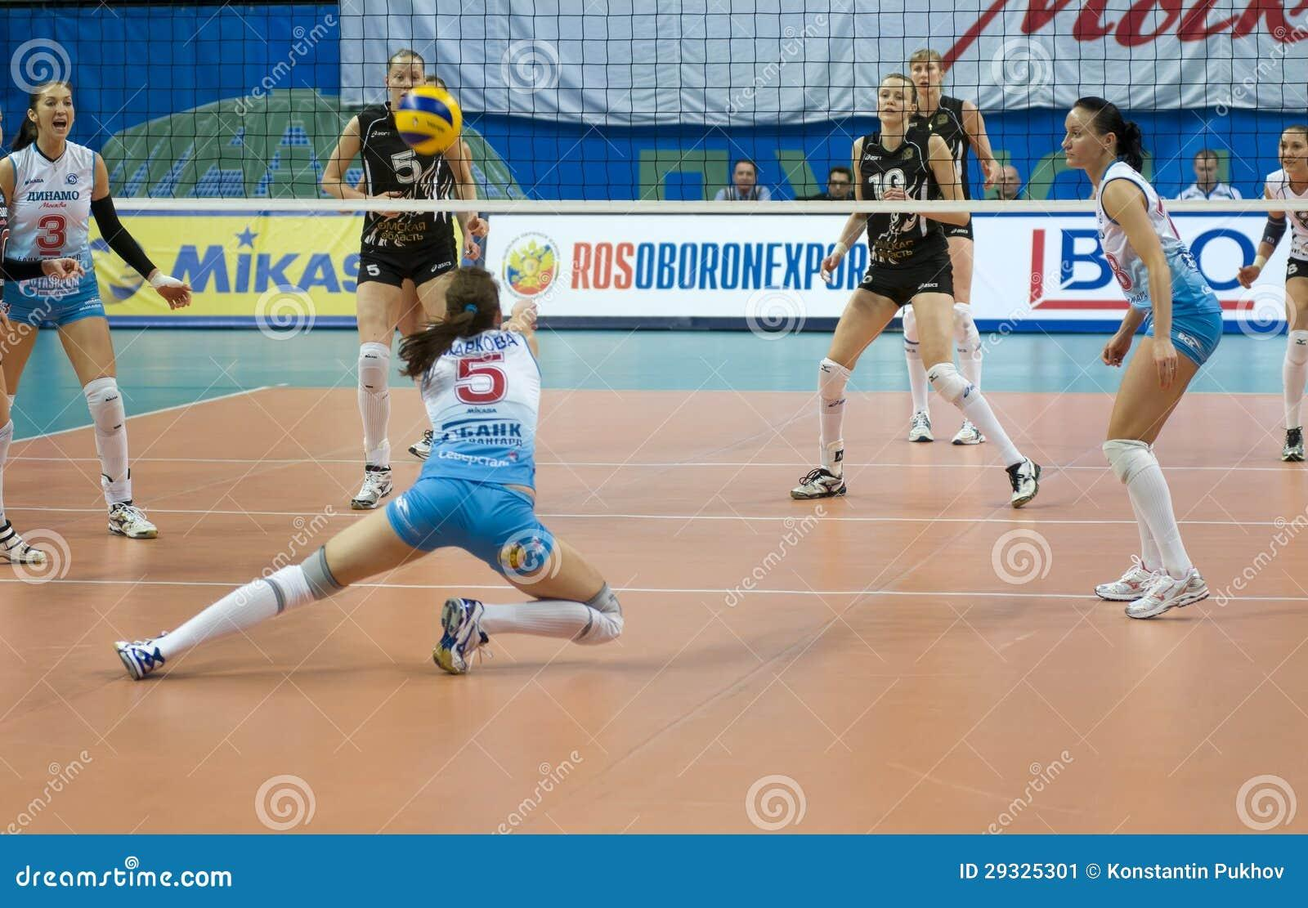ballon_volley: (392, 83, 463, 157)
